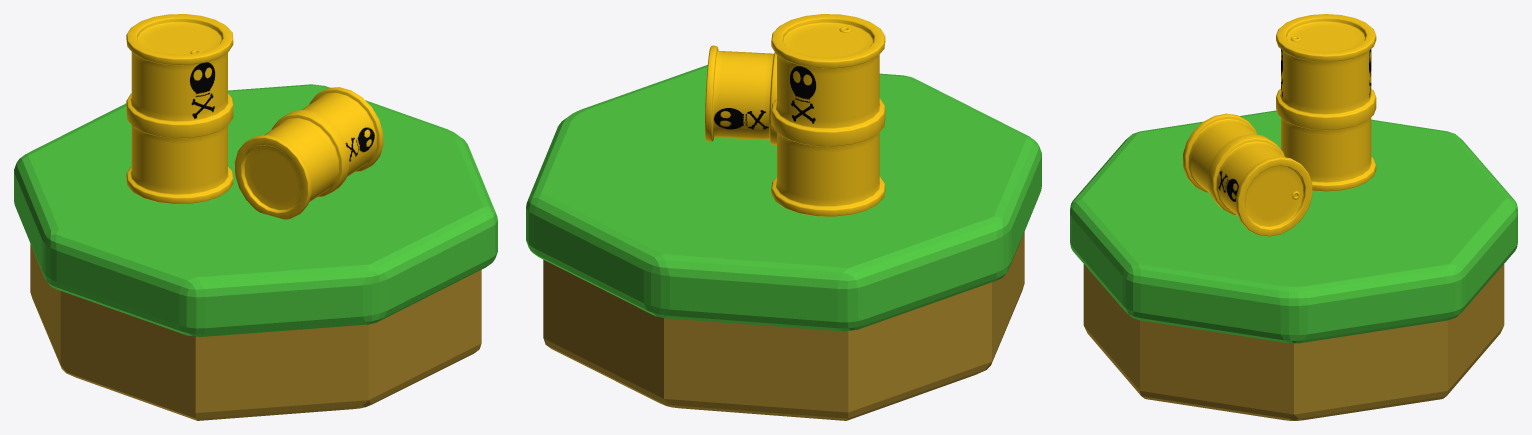
File: land.glb
3 renders of one model, left to right at view 1: azimuth 30°, elevation 25°; view 2: azimuth 150°, elevation 25°; view 3: azimuth 270°, elevation 25°, orthographic. The views are drawn at different scales.
Parts seen in each view (by area): view 1: Top.001, Plane.001, Drum, Drum.001; view 2: Top.001, Plane.001, Drum, Drum.001; view 3: Top.001, Plane.001, Drum, Drum.001.
Boxes of the visible parts, bbox=[...] form: Top.001: bbox=[14, 84, 497, 336]; Plane.001: bbox=[30, 244, 481, 420]; Drum: bbox=[126, 14, 233, 204]; Drum.001: bbox=[234, 87, 383, 219]; Top.001: bbox=[526, 64, 1041, 331]; Plane.001: bbox=[543, 232, 1024, 420]; Drum: bbox=[771, 14, 885, 216]; Drum.001: bbox=[705, 45, 776, 145]; Top.001: bbox=[1070, 110, 1517, 343]; Plane.001: bbox=[1083, 264, 1504, 420]; Drum: bbox=[1276, 14, 1376, 191]; Drum.001: bbox=[1183, 113, 1312, 236].
Size of the model in its own units: 1.95 by 1.33 by 1.95.
Materials: 4 (2 with a texture image).
